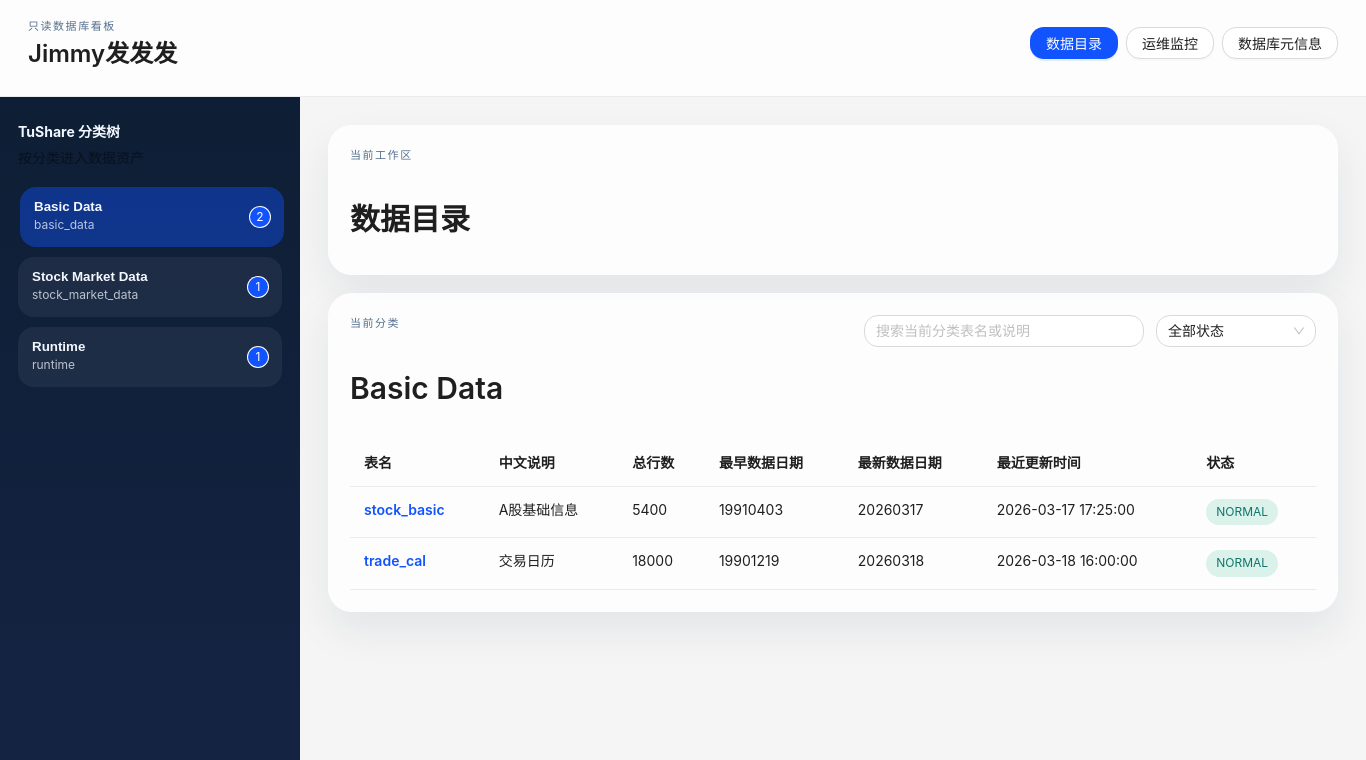
it: data_explorer app shell › shows the full-table mode by default after switching to the all data tab
Click the cell "A股基础信息".
click(551, 512)  # box left=485, top=486, right=618, bottom=538
(page scrolled)
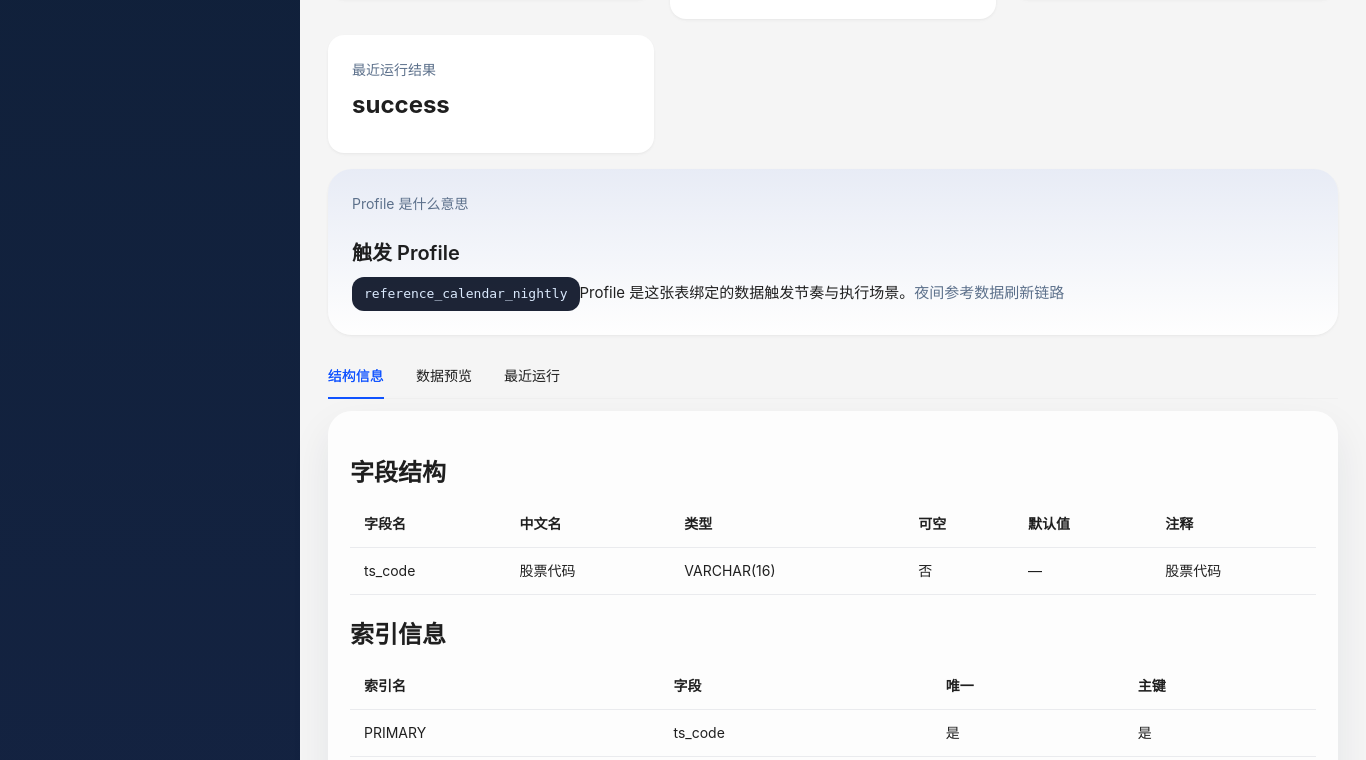
Click the tab "数据预览".
click(444, 376)  # box left=416, top=365, right=472, bottom=387
(page scrolled)
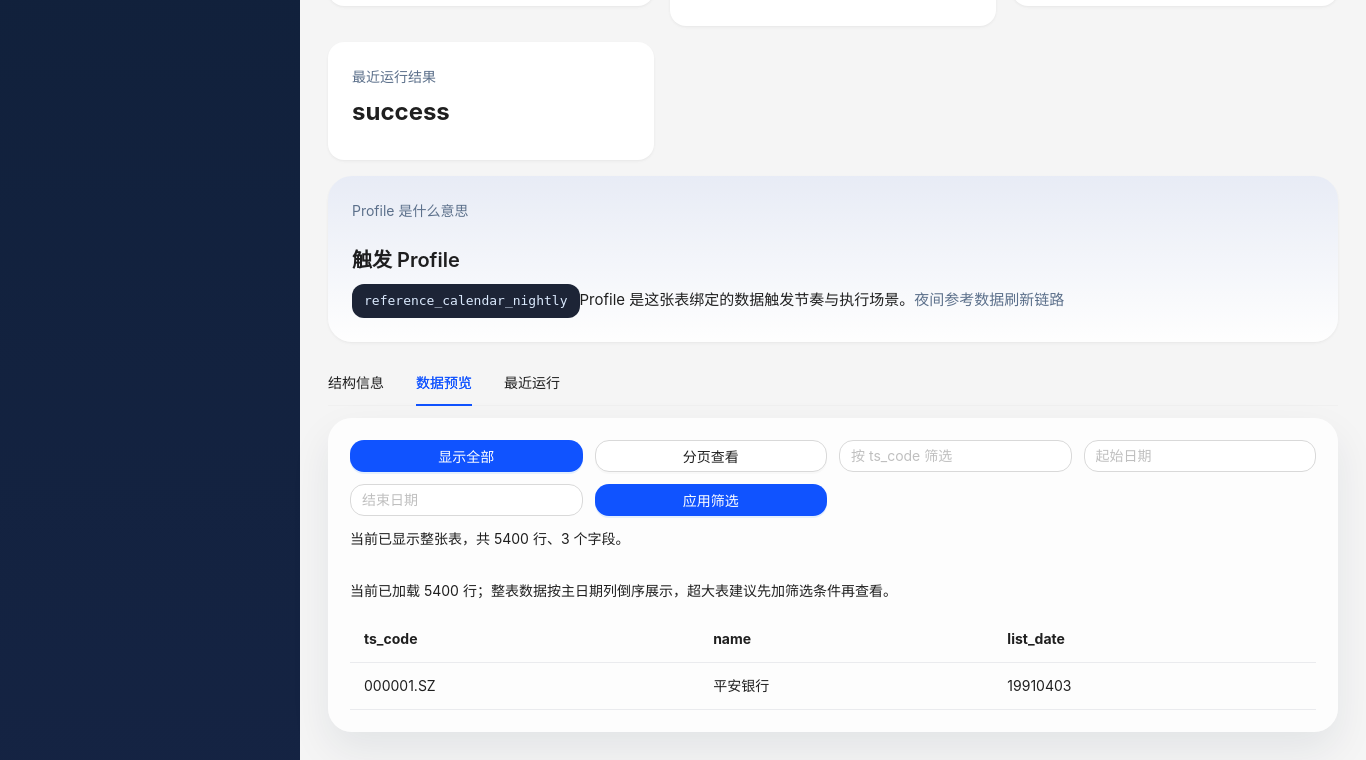
Expected: the text "000001.SZ" is shown, left=350, top=663, right=699, bottom=710
Expected: the text "当前已显示整张表，共 5400 行、3 个字段。" is shown, left=350, top=530, right=630, bottom=547
